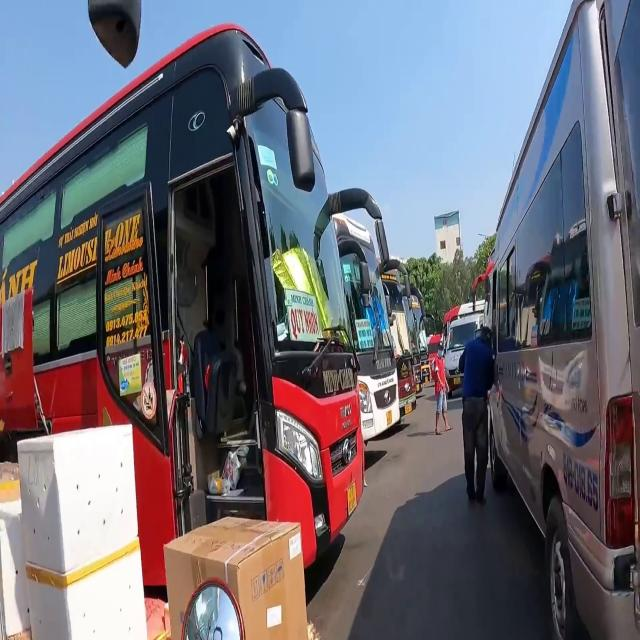bien_vang: (346, 483, 358, 511), (404, 405, 414, 415), (387, 412, 392, 425), (453, 378, 461, 384)
